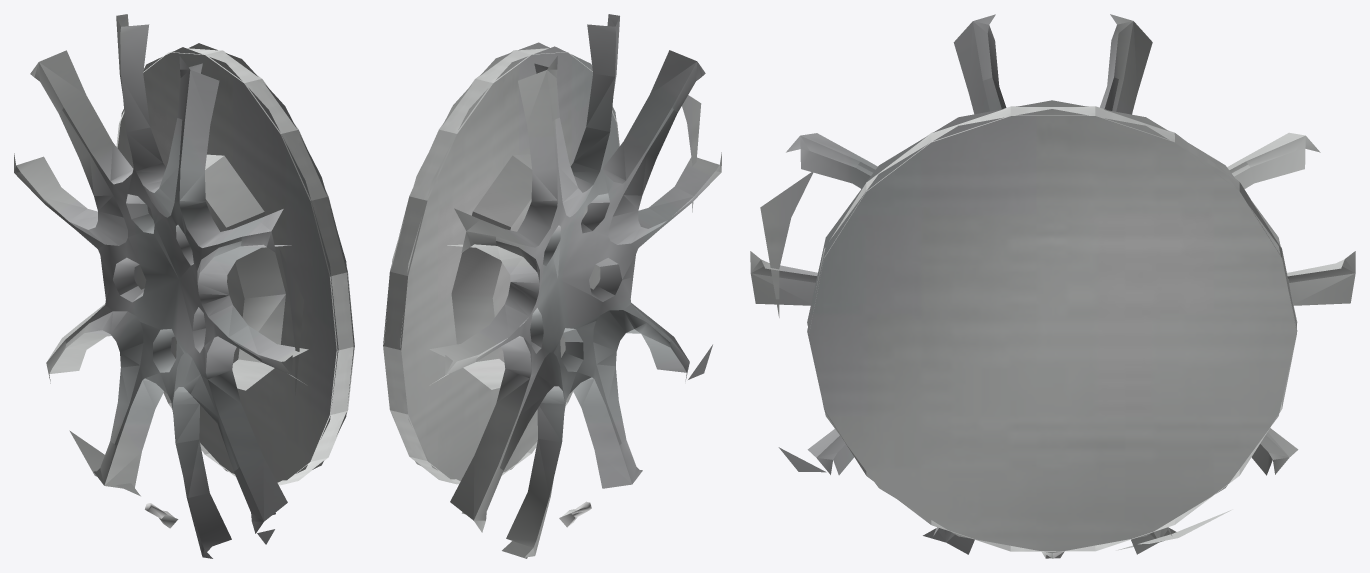
File: rinizq.obj
The picture shows the model from 3 angles, left to right: view 1: azimuth 30°, elevation 25°; view 2: azimuth 150°, elevation 25°; view 3: azimuth 270°, elevation 25°; orthographic projection. The views are drawn at different scales.
Visible parts, largest first — view 1: part_005; view 2: part_005; view 3: part_005.
Part boxes in pixels (left/top/right/bottom): part_005: left=14, top=14, right=354, bottom=558; part_005: left=383, top=14, right=721, bottom=558; part_005: left=750, top=14, right=1355, bottom=558.
Bounding box in the file's own units: 0.4216 × 2.05 × 2.09.
